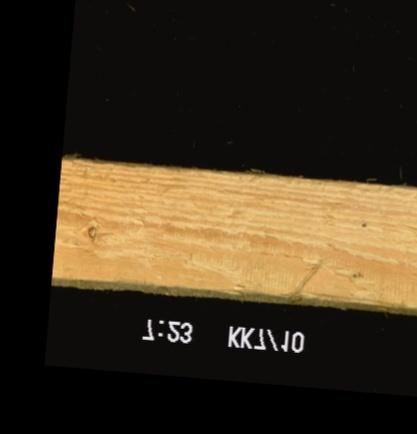small_knot: (81, 223, 97, 241)
